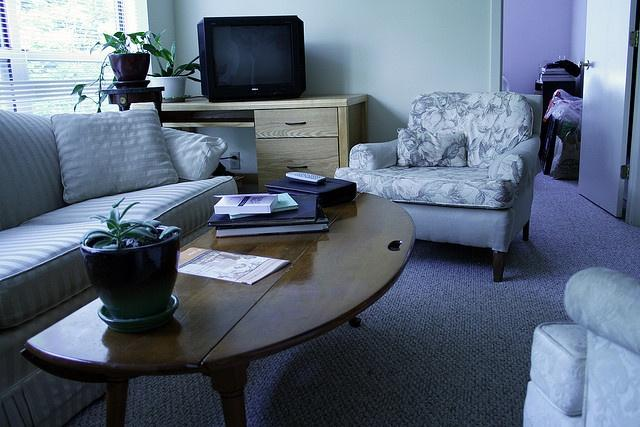Filing Cabinet: (252, 98, 347, 192)
Meja: (18, 188, 416, 387)
